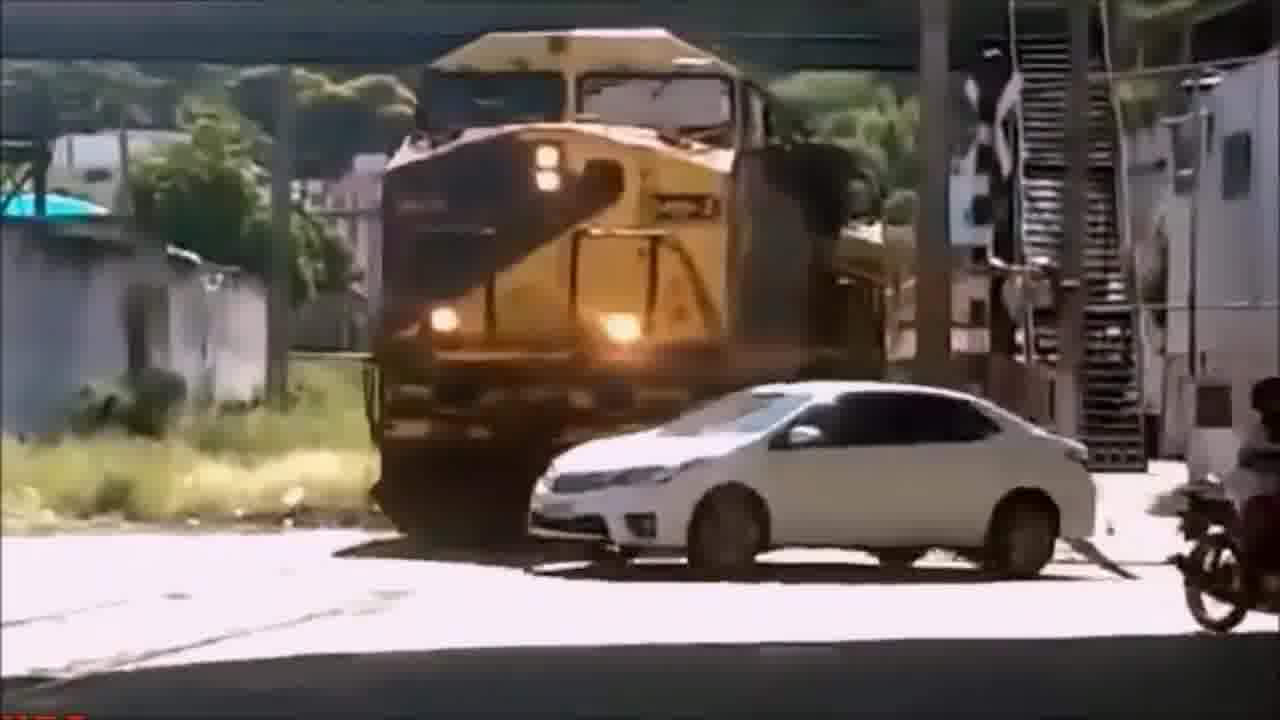crossing railway track: (471, 382, 1154, 592)
